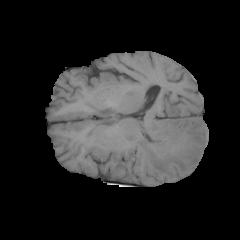glioma: (134, 119, 204, 179)
